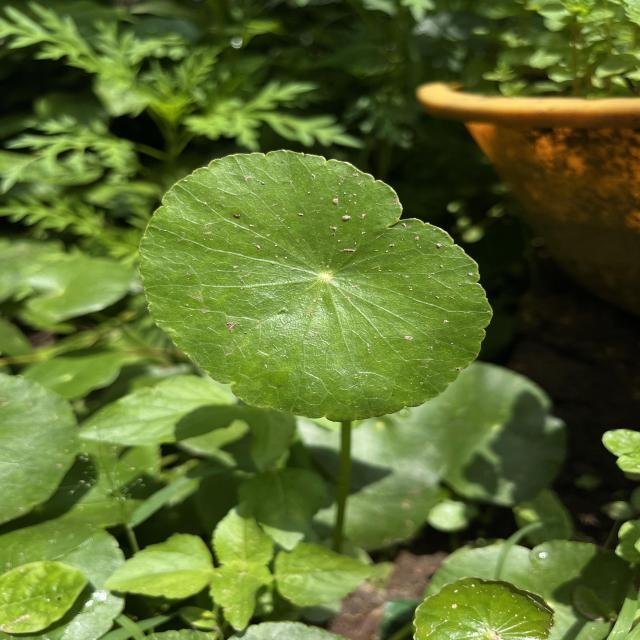Bacopa monnieri: (135, 145, 498, 425), (410, 572, 556, 640)
